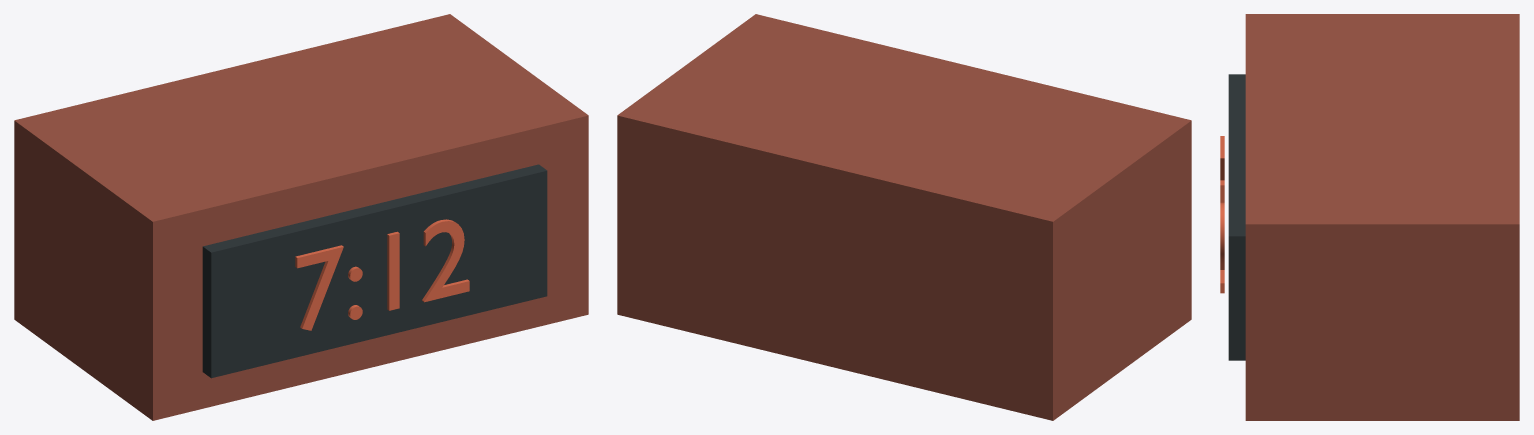
File: clock_0712.glb
The picture shows the model from 3 angles, left to right: view 1: azimuth 30°, elevation 25°; view 2: azimuth 150°, elevation 25°; view 3: azimuth 270°, elevation 25°; orthographic projection.
Visible parts, largest first — view 1: Clock body, Screen, 7:12; view 2: Clock body; view 3: Clock body, Screen, 7:12.
Part boxes in pixels (x1,y1,x2,y2): Clock body: [14, 14, 588, 420]; Screen: [202, 164, 547, 378]; 7:12: [295, 219, 469, 330]; Clock body: [617, 14, 1191, 420]; Clock body: [1245, 14, 1519, 420]; Screen: [1228, 74, 1245, 360]; 7:12: [1220, 136, 1224, 293].
Size of the model in its own units: 0.236 by 0.103 by 0.142.
